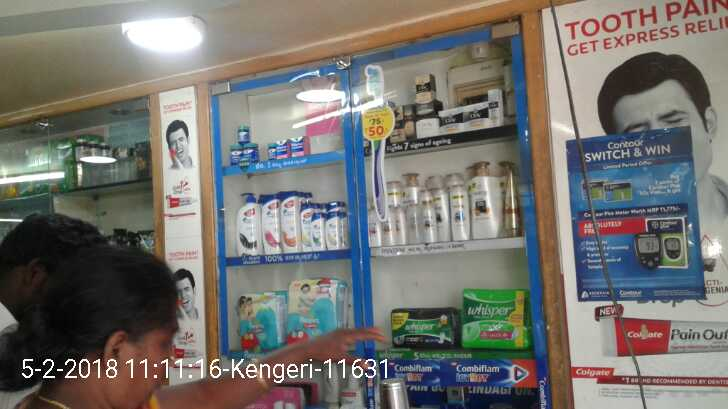beauty: (234, 190, 262, 256), (470, 177, 497, 241), (279, 189, 301, 254), (451, 183, 472, 241), (263, 193, 282, 257), (433, 187, 452, 243), (418, 187, 435, 245), (461, 102, 488, 132), (323, 210, 342, 252), (308, 211, 325, 251), (414, 113, 441, 138), (488, 88, 503, 129), (416, 72, 433, 101)
pharmacy: (460, 281, 534, 355), (231, 289, 281, 355), (387, 306, 458, 350), (288, 278, 340, 336), (240, 142, 258, 164), (289, 135, 303, 157), (229, 144, 241, 165), (235, 125, 248, 144), (265, 139, 277, 159), (278, 136, 288, 159)
